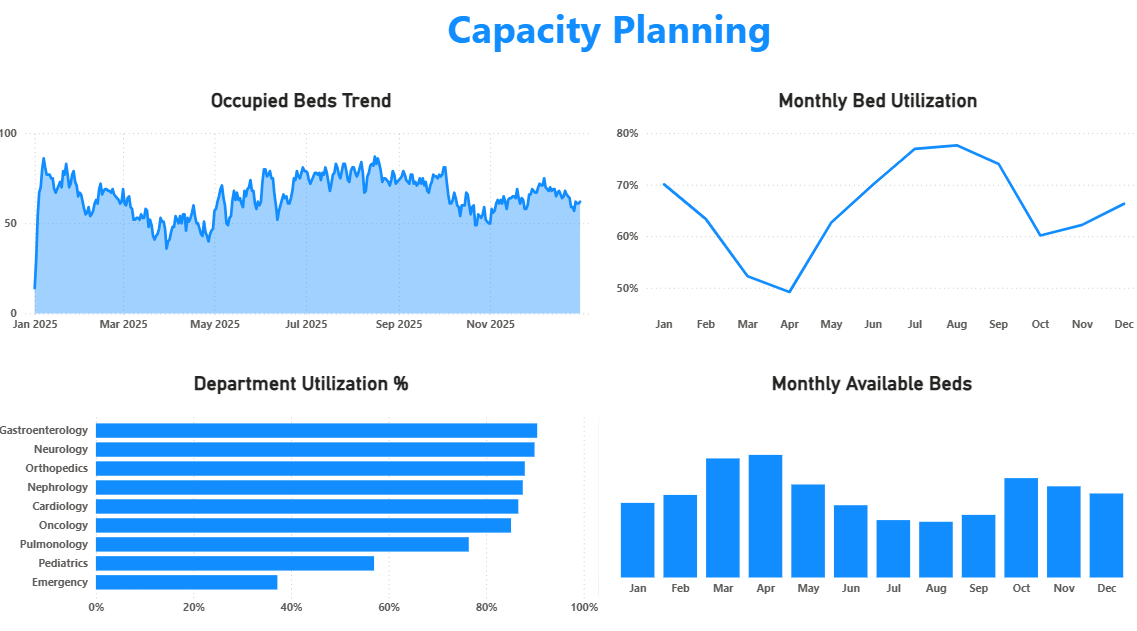

Layout of this report page (visuals, bound fields, positions):
{"tool":"powerbi","page":{"name":"Capacity Planning","canvas":[1280,720],"ordinal":3},"visuals":[{"type":"areaChart","title":"Occupied Beds Trend","fields":{"Category":["hospital_bed_management daily_occupancy.Occupancy_Date"],"Y":["Sum(hospital_bed_management daily_occupancy.Occupied_Beds)"]},"box":[0,101.7,685,280],"z":0},{"type":"lineChart","title":"Monthly Bed Utilization","fields":{"Category":["Calendar.Month"],"Y":["Measures1.Monthly Bed Utilization %"]},"box":[686.7,101.7,593.3,280],"z":1},{"type":"barChart","title":"Department Utilization %","fields":{"Category":["hospital_bed_management departments.Department_Name"],"Y":["Measures1.Department Utilization %"]},"box":[0,416.7,685,280],"z":2},{"type":"columnChart","title":"Monthly Available Beds","fields":{"Category":["Calendar.Month"],"Y":["Sum(hospital_bed_management daily_occupancy.Available_Beds)"]},"box":[673.3,416.7,606.7,258.3],"z":3},{"type":"textbox","box":[95,0,1180,95],"z":4}]}

Visuals, with their boxes in screenshot pixels (x1, y1, x2, y2), scaled from the page's 1280x720 canvas onto the 1137x631 screenshot:
"Occupied Beds Trend" areaChart: (0,89,608,335)
"Monthly Bed Utilization" lineChart: (610,89,1136,335)
"Department Utilization %" barChart: (0,365,608,611)
"Monthly Available Beds" columnChart: (598,365,1136,592)
textbox: (84,0,1133,83)
